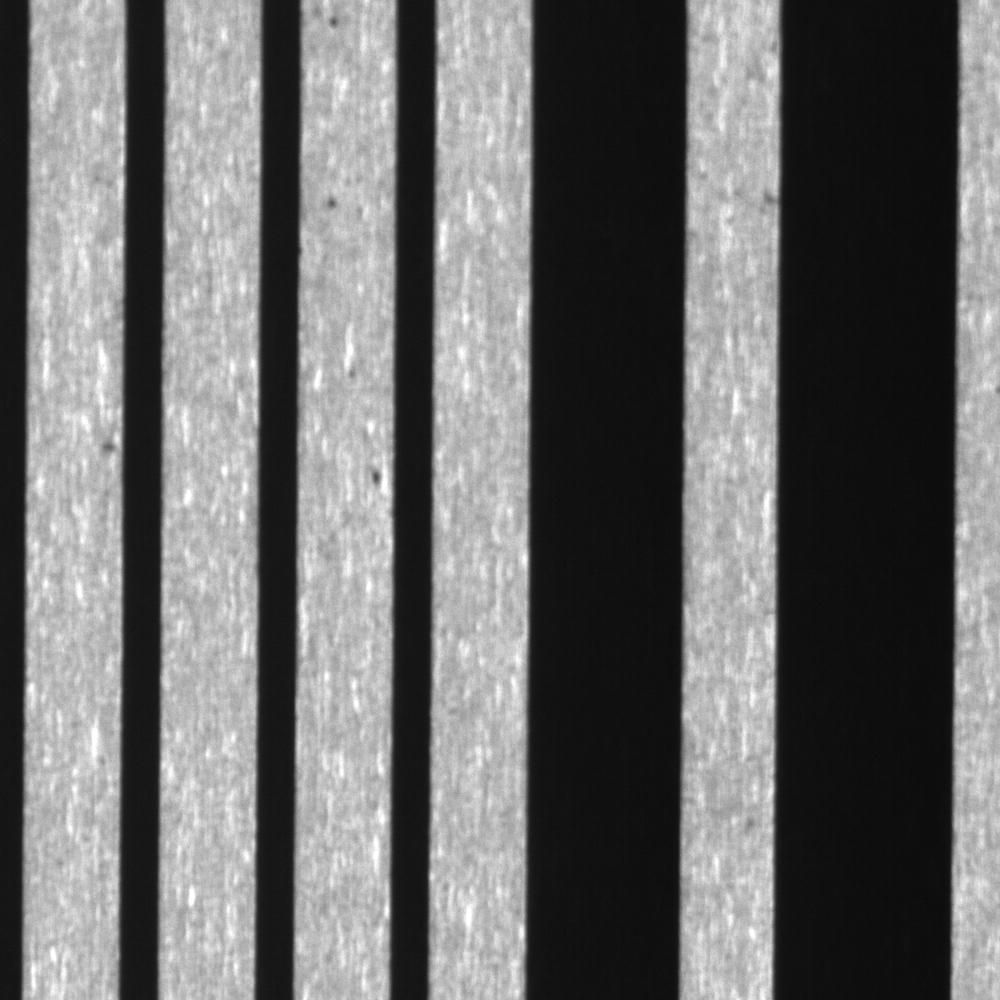Etching: (93, 420, 125, 472)
Pinhole: (308, 183, 358, 225), (356, 455, 393, 496), (317, 4, 354, 42)
